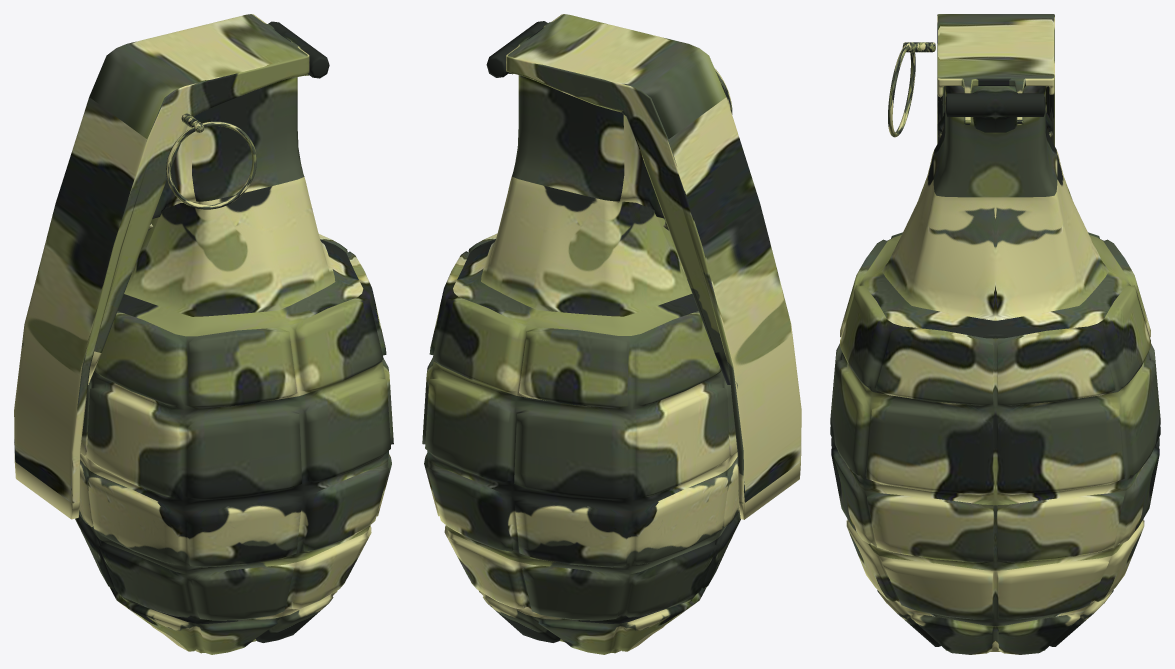
The model's file is granademilitar.glb.
The picture shows the model from 3 angles, left to right: view 1: azimuth 30°, elevation 25°; view 2: azimuth 150°, elevation 25°; view 3: azimuth 270°, elevation 25°; orthographic projection.
Visible parts, largest first — view 1: Granada high poly_05 - Default_0; view 2: Granada high poly_05 - Default_0; view 3: Granada high poly_05 - Default_0.
Boxes of the visible parts, x1=… form: Granada high poly_05 - Default_0: x1=14, y1=14, x2=393, y2=654; Granada high poly_05 - Default_0: x1=422, y1=14, x2=801, y2=654; Granada high poly_05 - Default_0: x1=830, y1=14, x2=1160, y2=654.
Size of the model in its own units: 290 by 509 by 262.
Materials: 1 (1 with a texture image).
